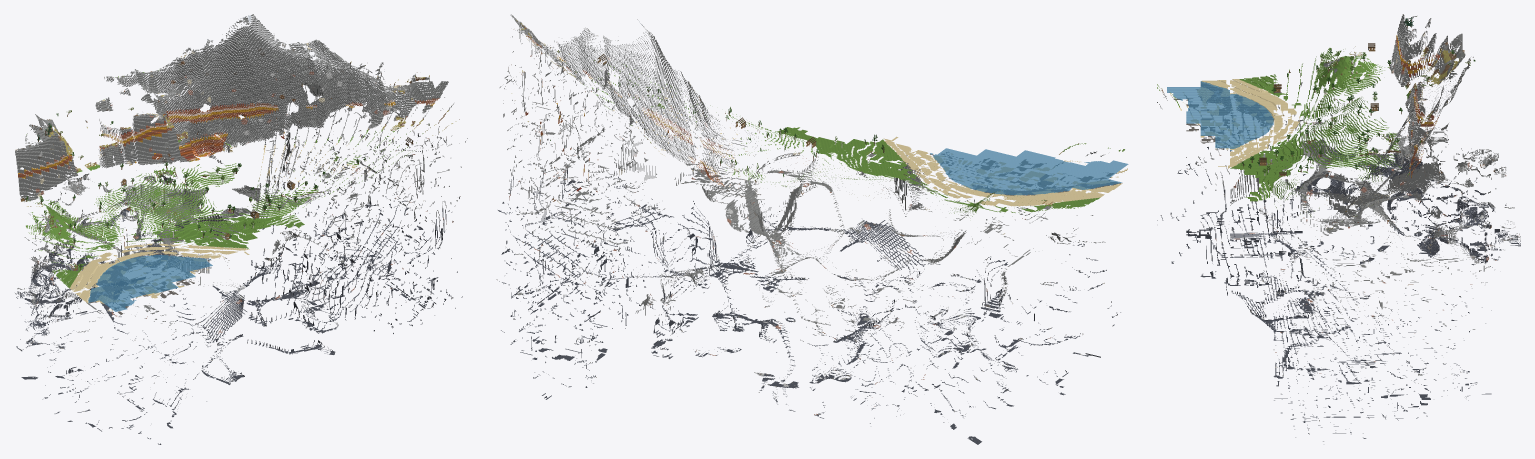
3 renders of one model, left to right at view 1: azimuth 30°, elevation 25°; view 2: azimuth 150°, elevation 25°; view 3: azimuth 270°, elevation 25°, orthographic. The views are drawn at different scales.
Visible parts, largest first — view 1: MenuScene; view 2: MenuScene; view 3: MenuScene.
Part boxes in pixels (x1,y1,x2,y2): MenuScene: (15, 14, 467, 444); MenuScene: (496, 14, 1128, 444); MenuScene: (1157, 14, 1520, 441).
Size of the model in its own units: 560 by 366 by 400.
42 materials, 42 textured.
